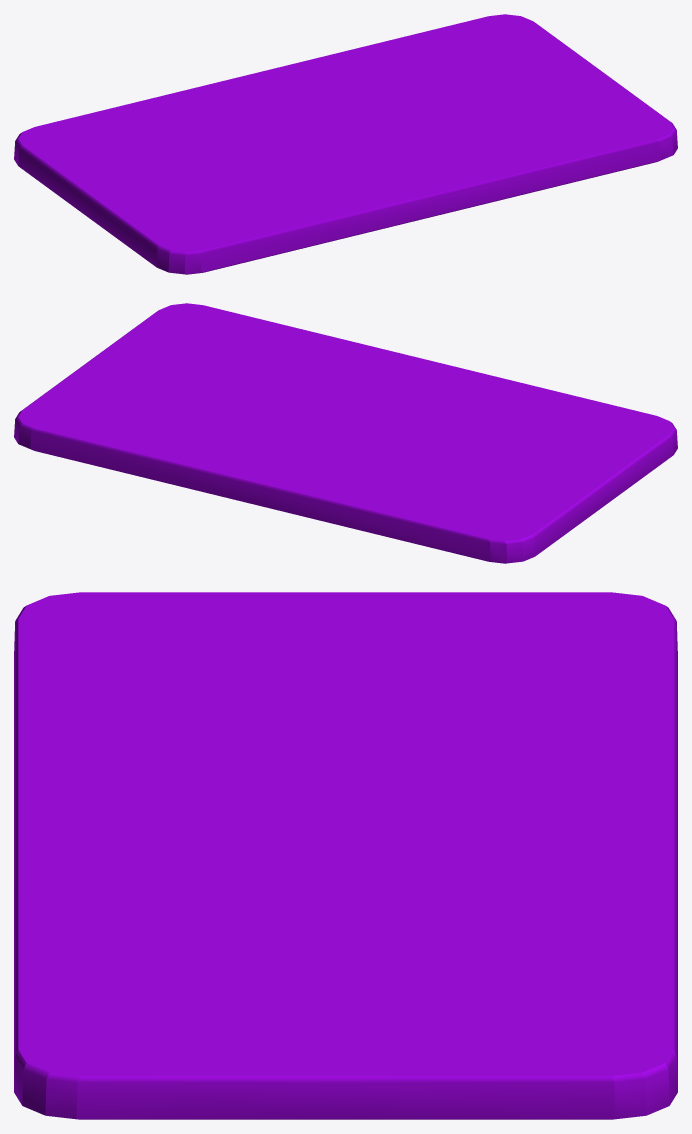
File: Mobile.fbx
The picture shows the model from 3 angles, top to bottom: view 1: azimuth 30°, elevation 25°; view 2: azimuth 150°, elevation 25°; view 3: azimuth 270°, elevation 25°; orthographic projection. The views are drawn at different scales.
Visible parts, largest first — view 1: Mobile; view 2: Mobile; view 3: Mobile.
Boxes of the visible parts, x1,y1,x2,y2 form: Mobile: [14, 14, 677, 274]; Mobile: [14, 303, 677, 563]; Mobile: [14, 592, 677, 1119].
Size of the model in its own units: 122 by 5.05 by 69.74.
